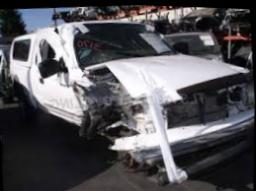Bumper: (113, 75, 255, 184)
Fender: (76, 71, 161, 136)
Windshield: (71, 21, 178, 68)
